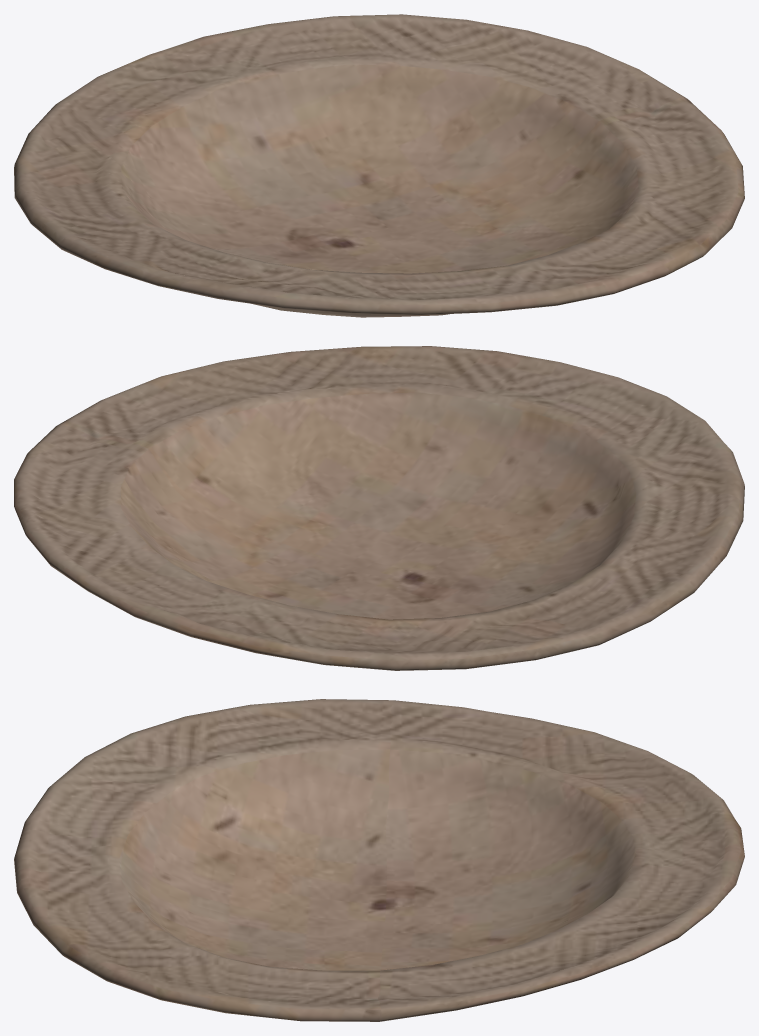
3 views of the same model, one above another, from view 1: azimuth 30°, elevation 25°; view 2: azimuth 150°, elevation 25°; view 3: azimuth 270°, elevation 25° (orthographic). The views are drawn at different scales.
Visible parts, largest first — view 1: carved_wooden_plate; view 2: carved_wooden_plate; view 3: carved_wooden_plate.
Boxes of the visible parts, bbox=[...] form: carved_wooden_plate: bbox=[14, 14, 744, 317]; carved_wooden_plate: bbox=[14, 346, 744, 670]; carved_wooden_plate: bbox=[14, 699, 744, 1021].
Bounding box in the file's own units: 0.2718 × 0.0381 × 0.2688.
1 material, 1 textured.
